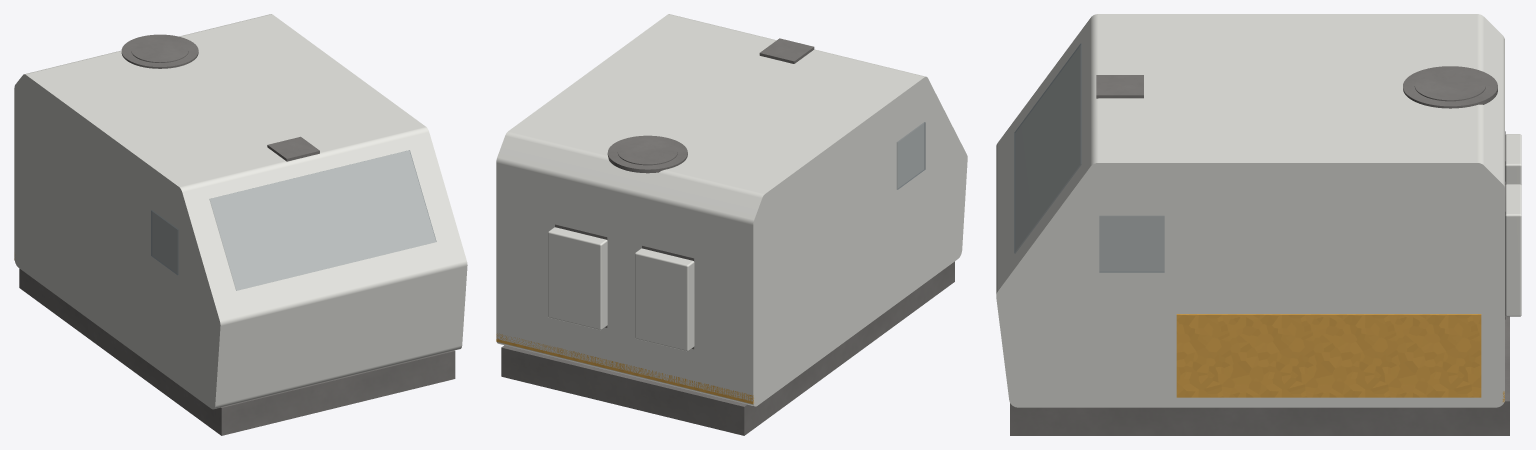
Rendered from rover24_pressurised_cab_l.glb.
The picture shows the model from 3 angles, left to right: view 1: azimuth 30°, elevation 25°; view 2: azimuth 150°, elevation 25°; view 3: azimuth 270°, elevation 25°; orthographic projection. The views are drawn at different scales.
Parts seen in each view (by area): view 1: cabin, windscreen, chassis_skirt, hatch_top, side_windows, mast_plate; view 2: cabin, chassis_skirt, hatch_suitports, hatch_top, gold_trim, side_windows, mast_plate; view 3: cabin, gold_trim, chassis_skirt, windscreen, side_windows, hatch_top, hatch_suitports, mast_plate.
Part boxes in pixels (x1=…): cabin: x1=14, y1=14, x2=467, y2=409; windscreen: x1=209, y1=150, x2=436, y2=290; chassis_skirt: x1=19, y1=268, x2=455, y2=435; hatch_top: x1=121, y1=34, x2=198, y2=68; side_windows: x1=151, y1=210, x2=178, y2=274; mast_plate: x1=267, y1=136, x2=319, y2=161; cabin: x1=496, y1=14, x2=967, y2=406; chassis_skirt: x1=501, y1=261, x2=954, y2=435; hatch_suitports: x1=548, y1=227, x2=694, y2=351; hatch_top: x1=607, y1=135, x2=687, y2=173; gold_trim: x1=496, y1=333, x2=753, y2=404; side_windows: x1=897, y1=122, x2=925, y2=189; mast_plate: x1=759, y1=38, x2=814, y2=63; cabin: x1=996, y1=14, x2=1504, y2=407; gold_trim: x1=1176, y1=314, x2=1504, y2=402; chassis_skirt: x1=1010, y1=316, x2=1509, y2=435; windscreen: x1=1014, y1=43, x2=1081, y2=253; side_windows: x1=1099, y1=216, x2=1164, y2=272; hatch_top: x1=1403, y1=66, x2=1497, y2=108; hatch_suitports: x1=1505, y1=134, x2=1521, y2=316; mast_plate: x1=1096, y1=75, x2=1143, y2=98.
Bounding box in the file's own units: 2.99 × 2.6 × 4.42.
Materials: 4 (2 with a texture image).
